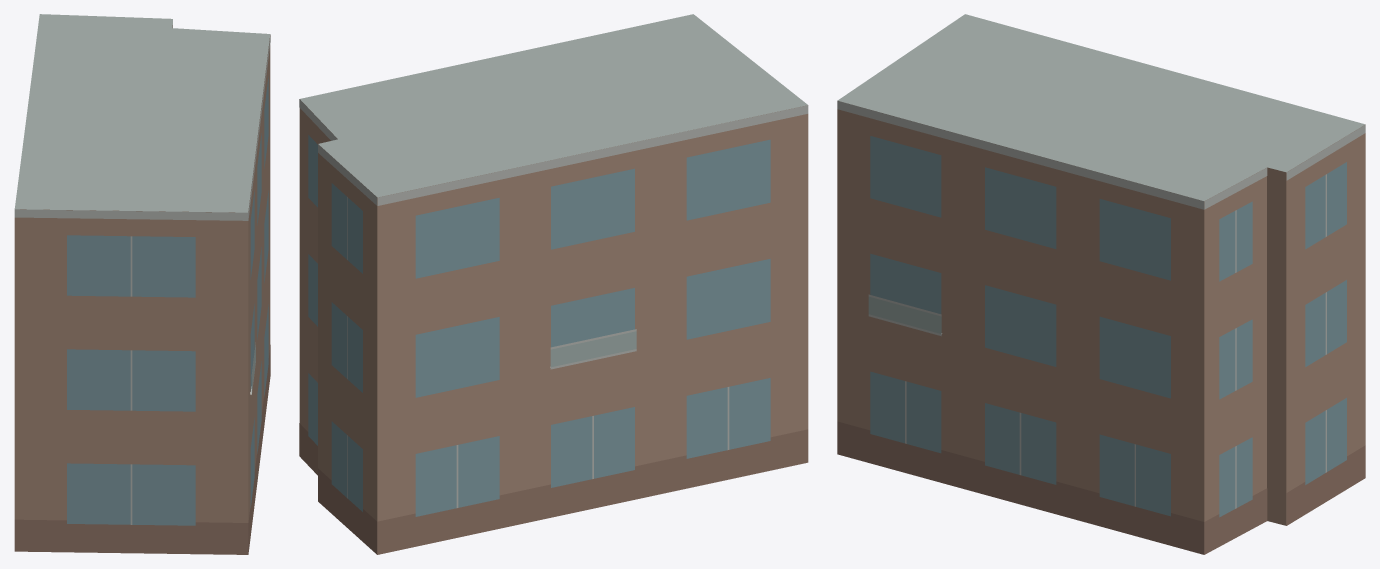
Rendered from survey-upis-32650699.glb.
The picture shows the model from 3 angles, left to right: view 1: azimuth 30°, elevation 25°; view 2: azimuth 150°, elevation 25°; view 3: azimuth 270°, elevation 25°; orthographic projection. The views are drawn at different scales.
Visible parts, largest first — view 1: survey-upis-32650699.tmp; view 2: survey-upis-32650699.tmp; view 3: survey-upis-32650699.tmp.
Part boxes in pixels (x1=…): survey-upis-32650699.tmp: x1=14, y1=14, x2=270, y2=554; survey-upis-32650699.tmp: x1=299, y1=14, x2=808, y2=554; survey-upis-32650699.tmp: x1=837, y1=14, x2=1365, y2=554.
Bounding box in the file's own units: 11.48 × 10.1 × 13.68.
